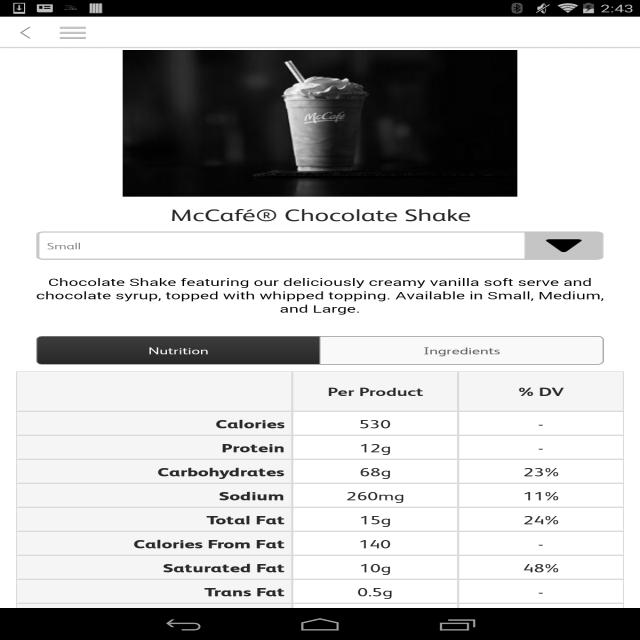ImageView: (0, 50, 640, 197), (0, 16, 51, 48), (51, 16, 94, 48)
TextView: (36, 231, 604, 260), (133, 203, 507, 225), (38, 337, 320, 364), (320, 337, 602, 364), (13, 415, 284, 432), (13, 439, 284, 456), (13, 463, 284, 480), (13, 487, 284, 504), (13, 511, 284, 528), (13, 535, 284, 552), (13, 559, 284, 576), (13, 583, 284, 600), (13, 607, 284, 624), (16, 385, 292, 398), (292, 415, 458, 432), (292, 439, 458, 456), (292, 463, 458, 480), (292, 487, 458, 504), (292, 511, 458, 528), (292, 535, 458, 552), (292, 559, 458, 576), (292, 583, 458, 600), (292, 607, 458, 624), (292, 384, 458, 399), (458, 384, 624, 399), (458, 416, 624, 431), (458, 440, 624, 455), (458, 464, 624, 479), (458, 488, 624, 503), (458, 512, 624, 527), (458, 536, 624, 551), (458, 560, 624, 575), (458, 584, 624, 599), (458, 608, 624, 623)
